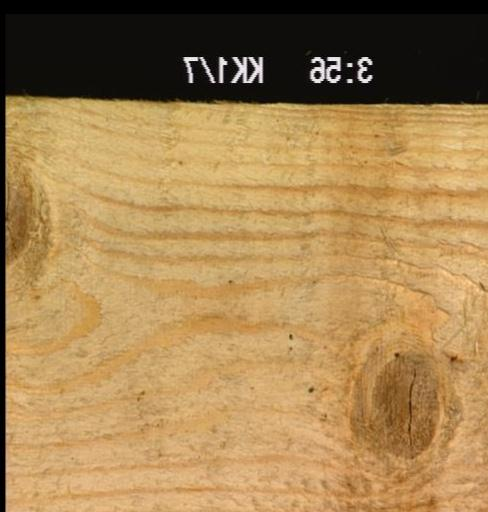sound_knot: (368, 354, 442, 456), (4, 159, 39, 264)
